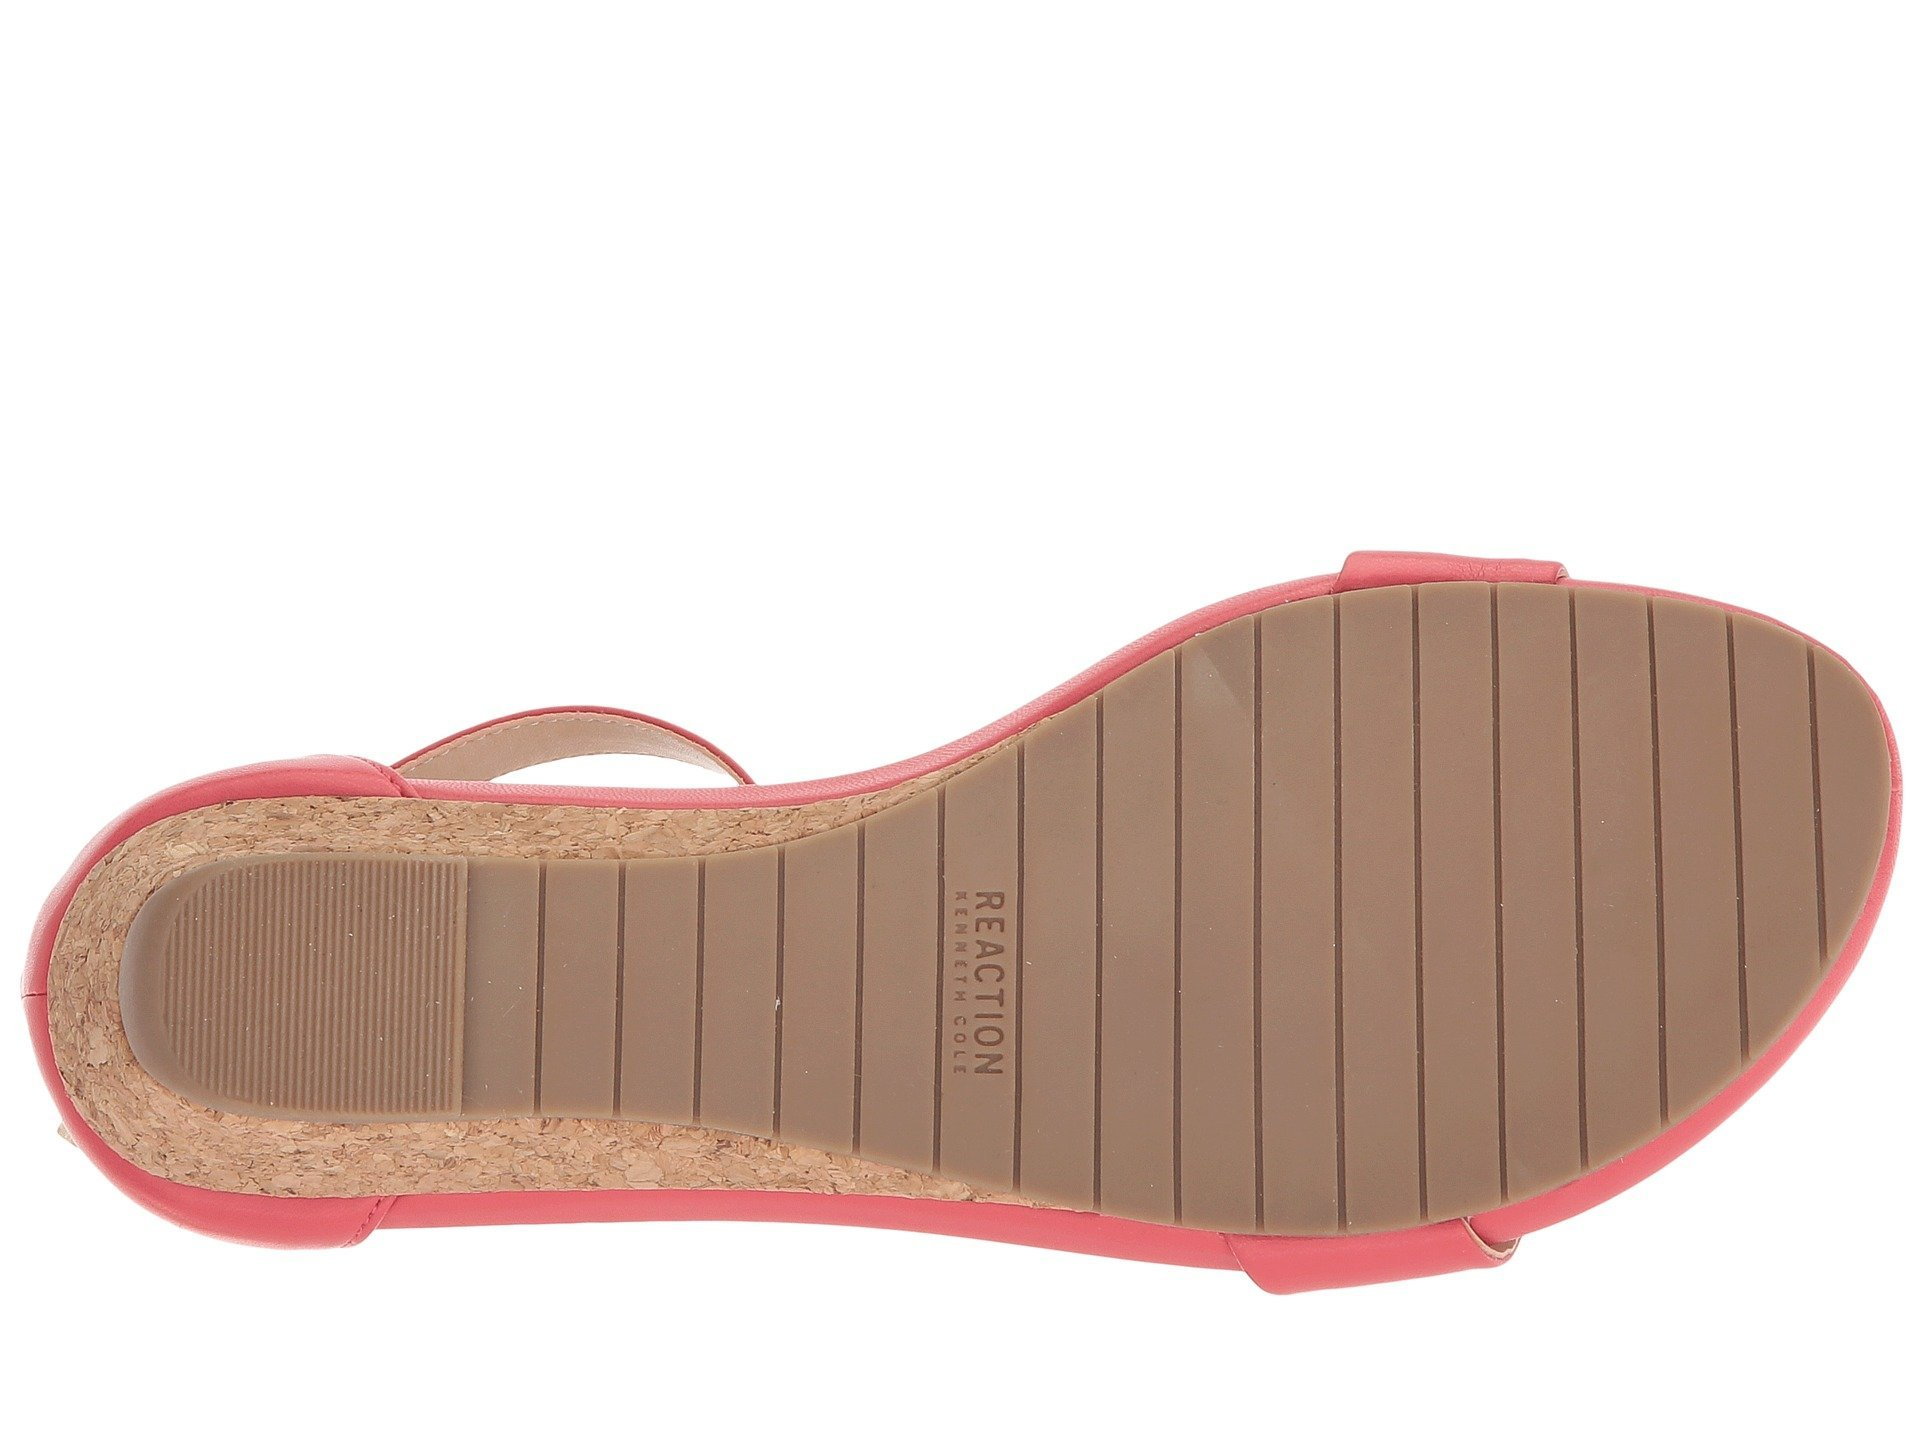circle: (877, 826, 1184, 1153)
line: (1203, 653, 1696, 1119), (877, 826, 1184, 1153), (587, 877, 841, 1125), (234, 885, 444, 1094)
text: (877, 826, 1184, 1153)
